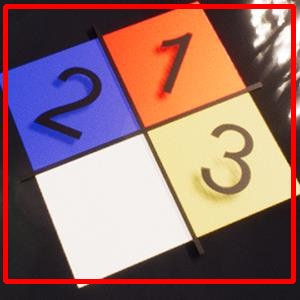nfpa: (5, 6, 293, 281)
